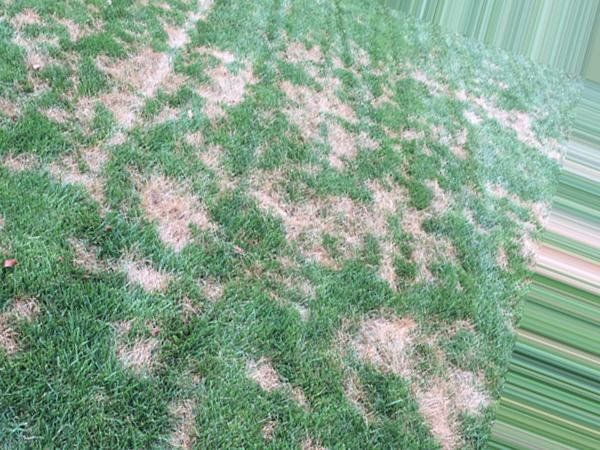patch: (369, 318, 475, 425), (294, 205, 426, 279), (130, 61, 211, 125), (142, 187, 201, 246), (56, 155, 104, 192)
